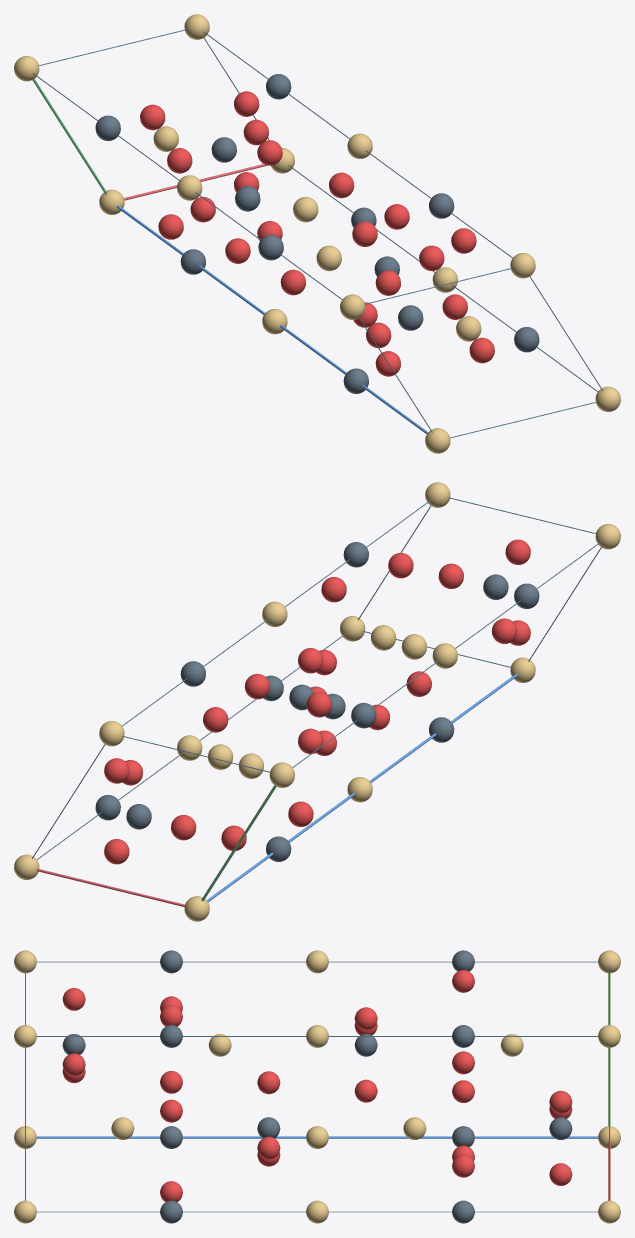
The model's file is chat-otavite.glb.
3 renders of one model, top to bottom at view 1: azimuth 30°, elevation 25°; view 2: azimuth 150°, elevation 25°; view 3: azimuth 270°, elevation 25°, orthographic. The views are drawn at different scales.
Parts seen in each view (by area): view 1: Ô mạng và các trục a, b, c; view 2: Ô mạng và các trục a, b, c; view 3: O · O · 1 (×16), Cd · Cd · 1 (×16), C · C · 1 (×12), Ô mạng và các trục a, b, c.
Part boxes in pixels (left/top/right/bottom): Ô mạng và các trục a, b, c: left=32, top=29, right=602, bottom=438; Ô mạng và các trục a, b, c: left=32, top=497, right=602, bottom=906; O · O · 1 (×16): left=62, top=970, right=572, bottom=1201; Cd · Cd · 1 (×16): left=14, top=950, right=620, bottom=1223; C · C · 1 (×12): left=62, top=950, right=572, bottom=1223; Ô mạng và các trục a, b, c: left=25, top=961, right=610, bottom=1212.
Size of the model in its own units: 8.02 by 4.9 by 16.94.
